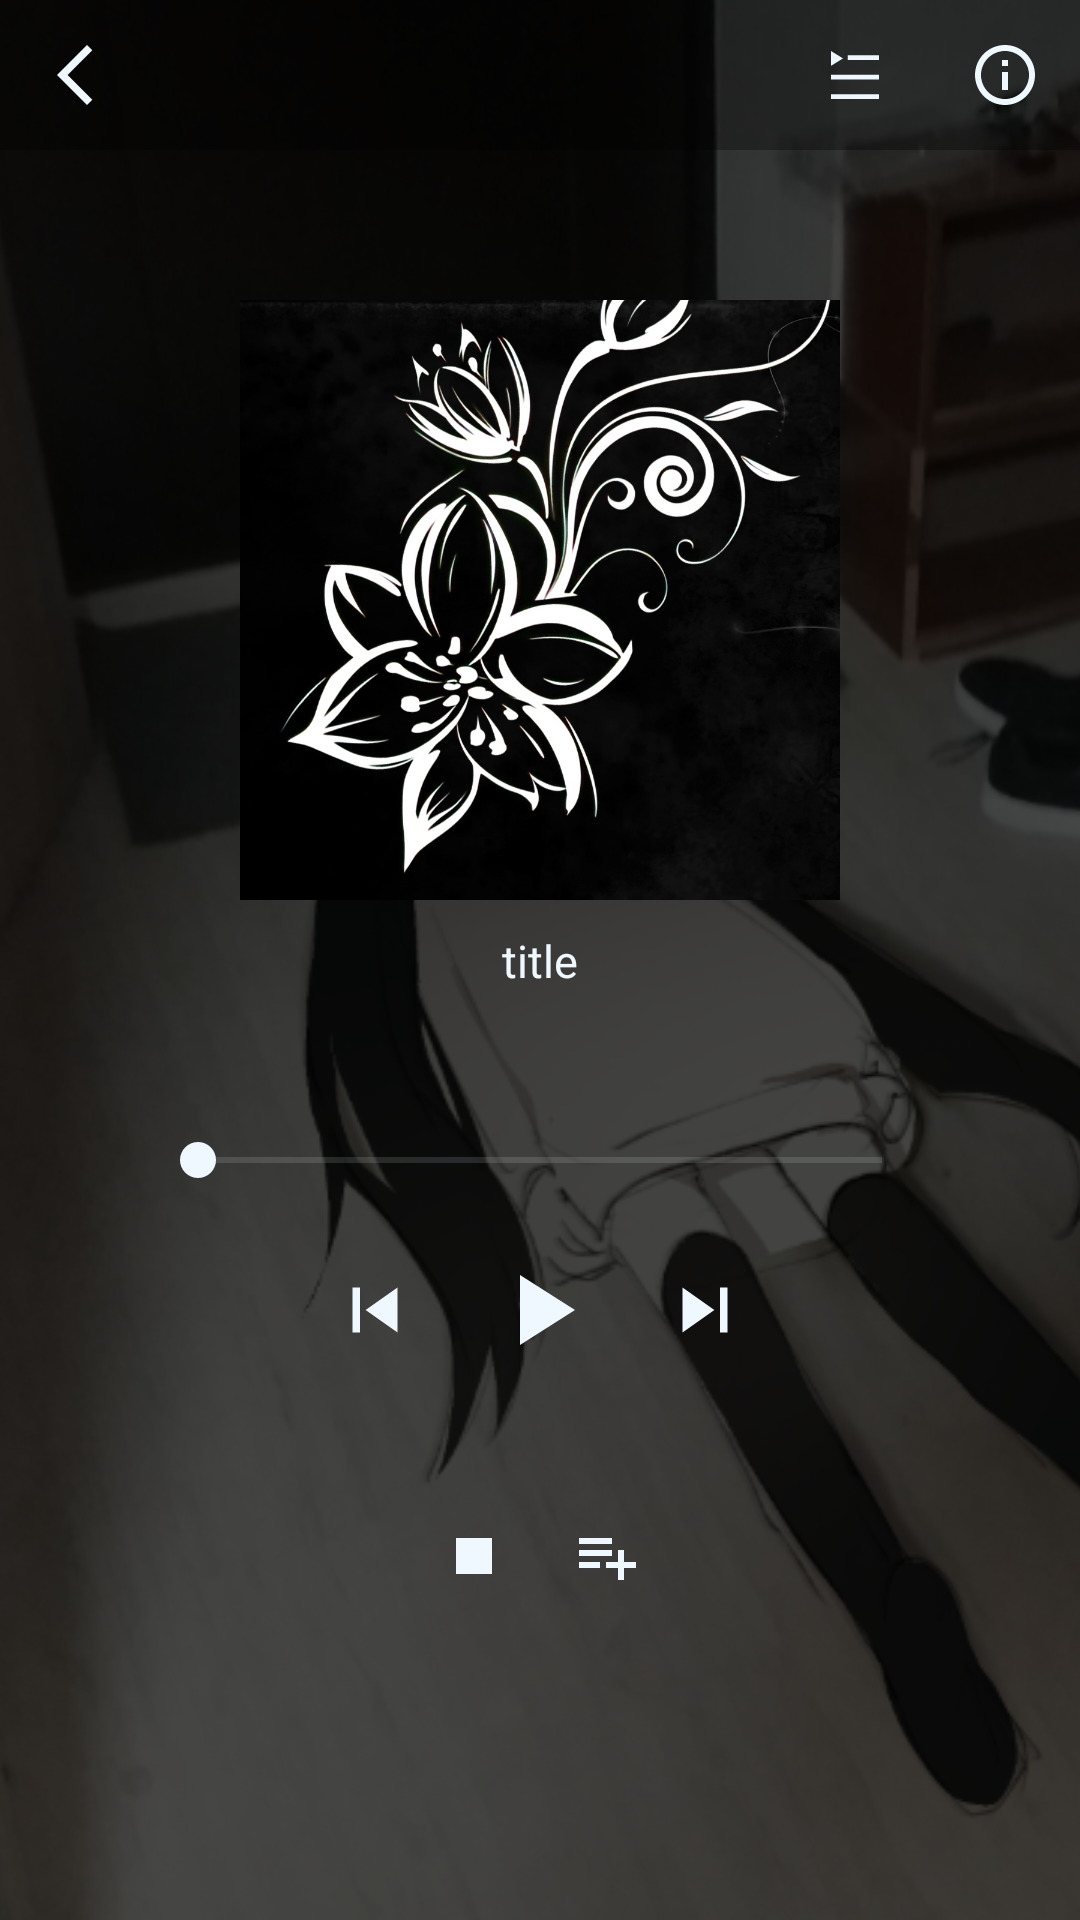

Locate icon controls on the screen. Image size 1080 × 1920, boxes as (x1, y1, x2, y2).
arrow back: (57, 45, 92, 105)
playlist: (831, 51, 879, 99)
playlist add: (579, 1538, 636, 1580)
skip next: (682, 1287, 728, 1333)
skip previous: (352, 1287, 398, 1333)
